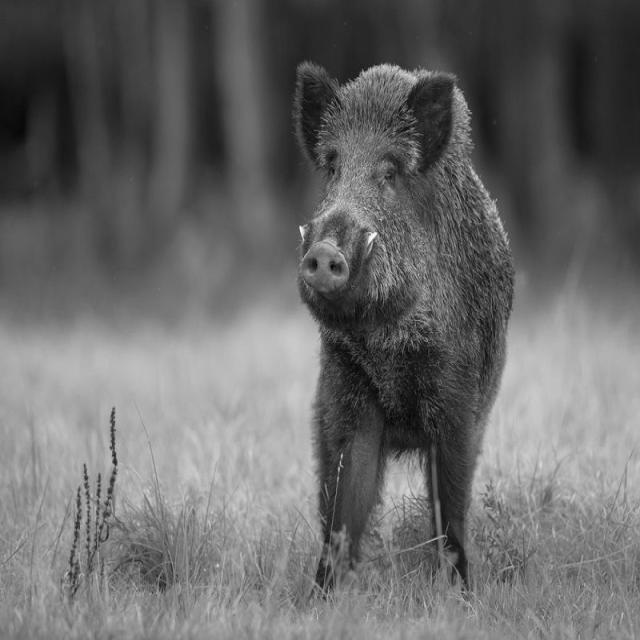boar: (296, 62, 514, 591)
